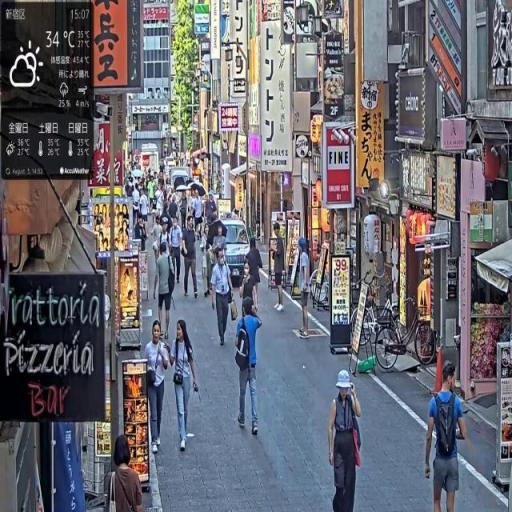person: (425, 362, 470, 512), (328, 370, 364, 512), (169, 317, 200, 455), (235, 294, 264, 439), (144, 319, 174, 456), (106, 433, 145, 511), (212, 246, 237, 349), (155, 241, 177, 348), (291, 233, 312, 340), (182, 215, 200, 304), (243, 242, 264, 317), (170, 213, 185, 292)
